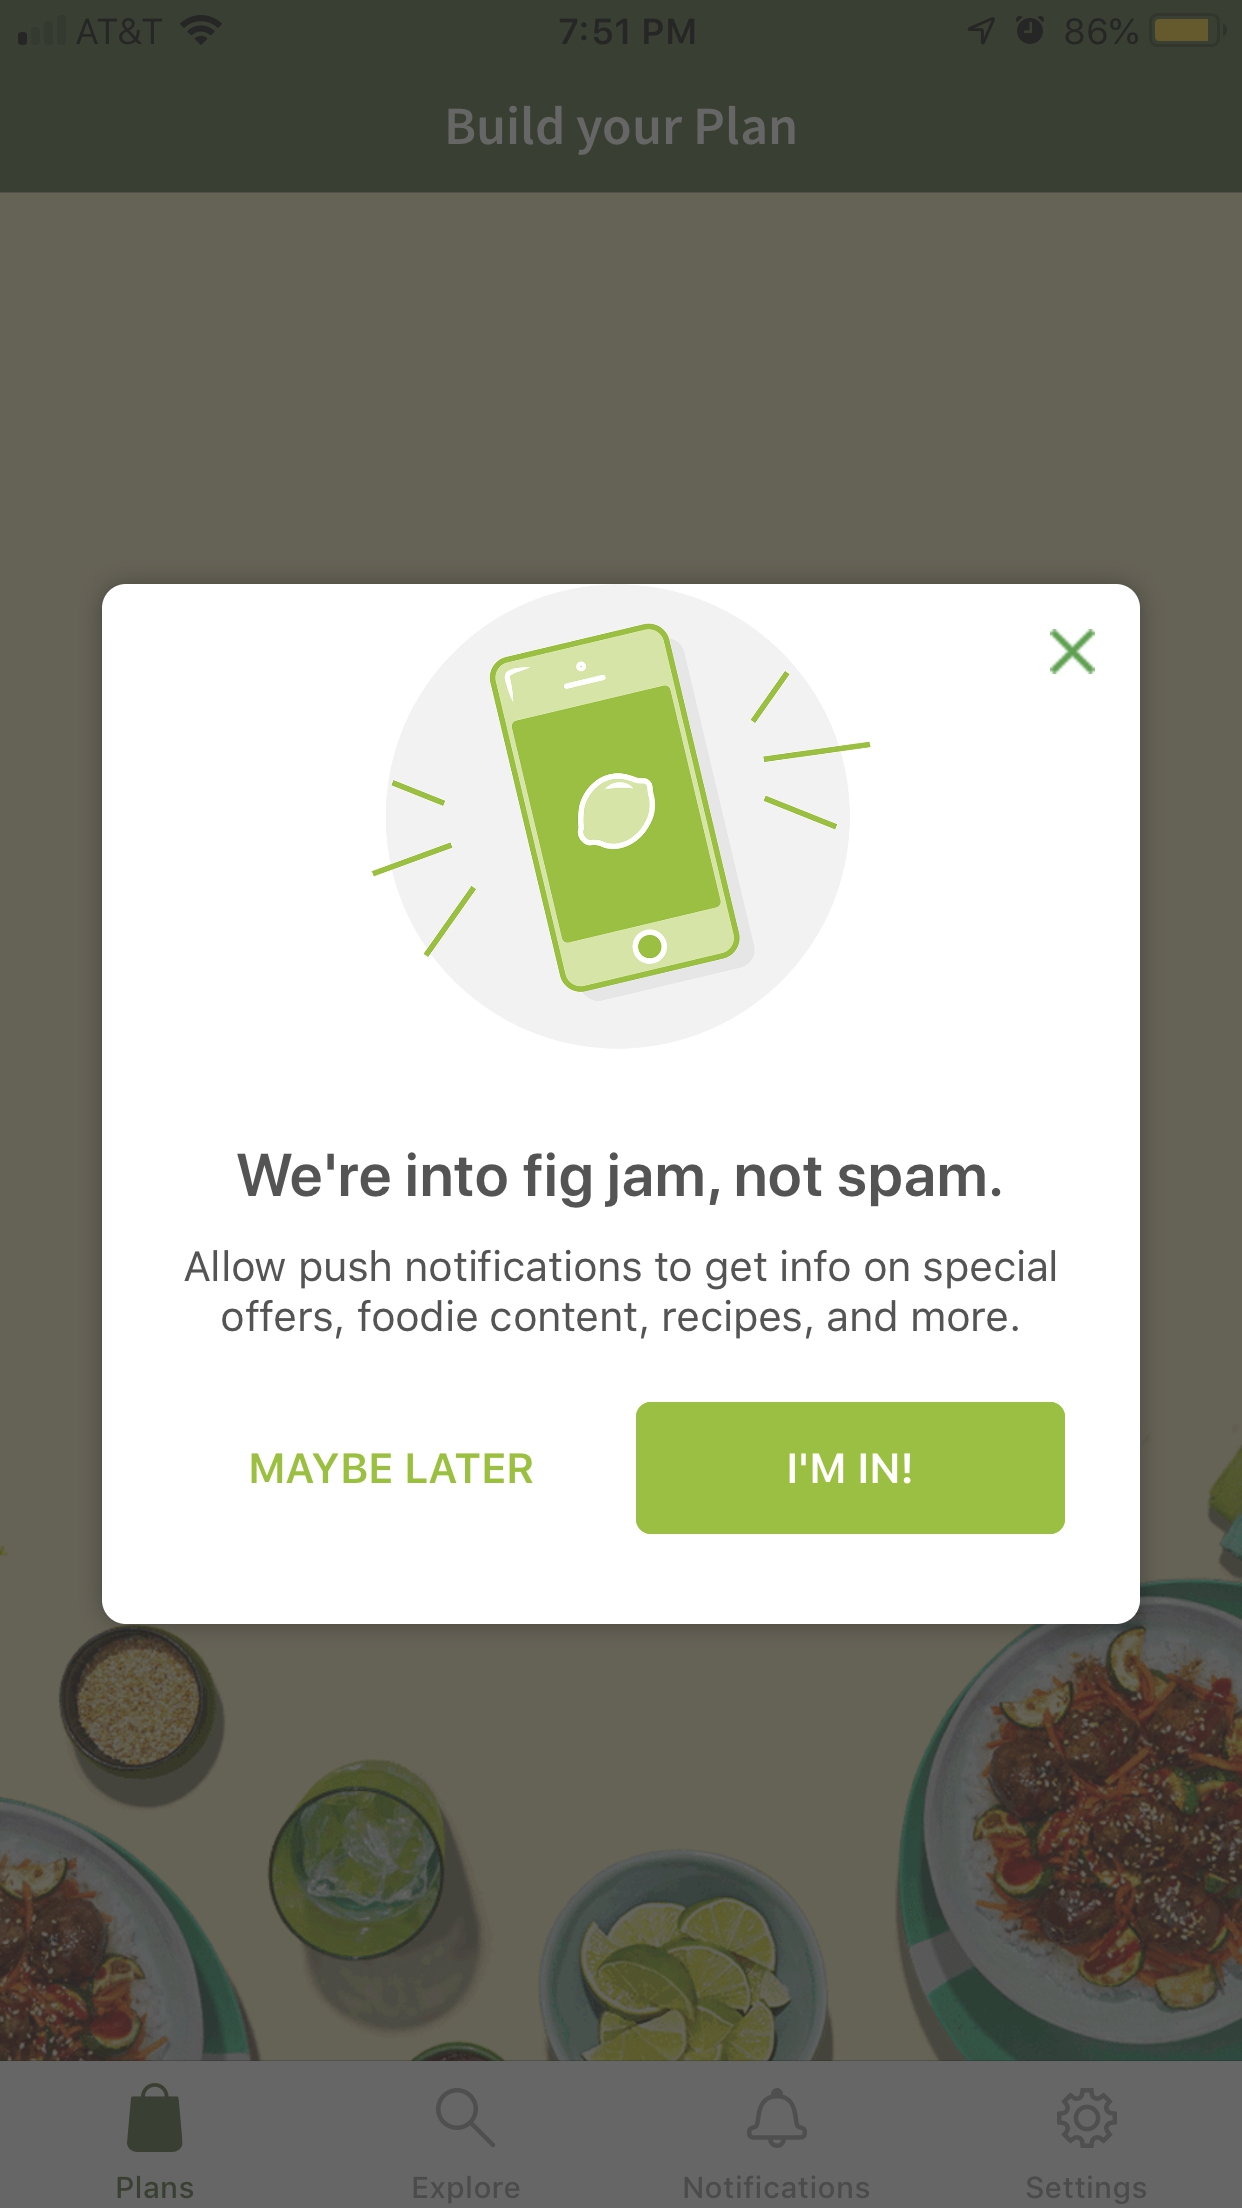Icon: (1049, 629, 1096, 675)
Image: (372, 585, 873, 1051)
Modal: (103, 584, 1140, 1626)
Text: (183, 1250, 1055, 1341), (237, 1153, 1002, 1209), (252, 1451, 532, 1485)
TextButton: (635, 1403, 1066, 1535)
UpperTaskBar: (2, 2, 1242, 49)
